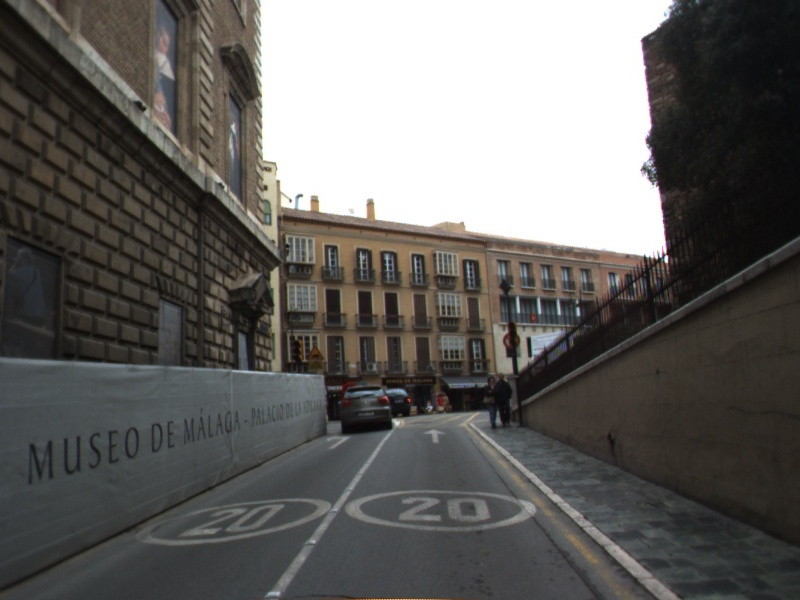LEFT: (324, 433, 353, 451)
STRAIGHT: (421, 427, 449, 445)
